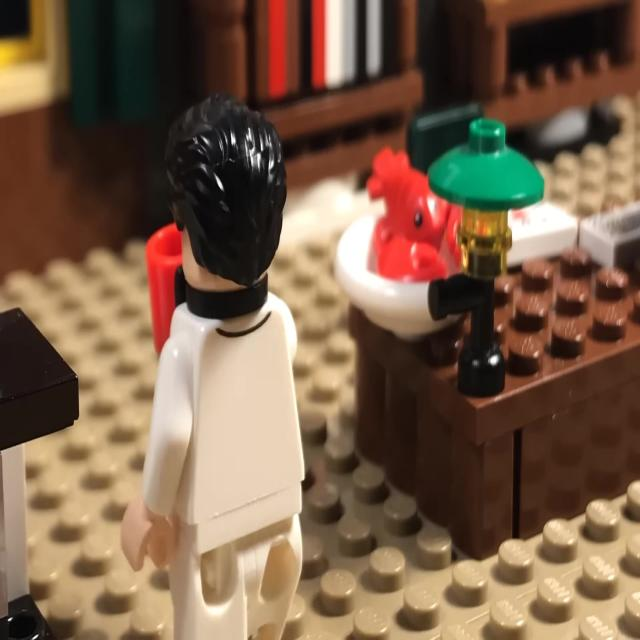4: (119, 506, 176, 576)
brick: (365, 139, 471, 275)
figure: (338, 283, 640, 545), (5, 288, 84, 486)
hand: (147, 87, 310, 640)
